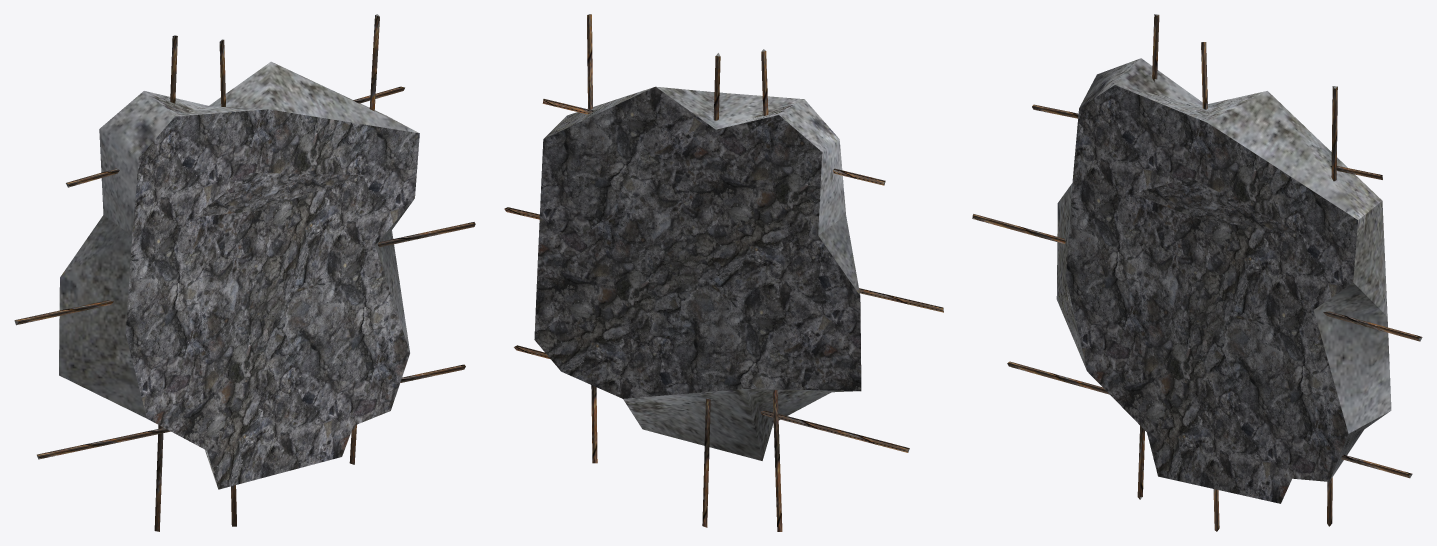
The model's file is Broken_1.fbx.
3 renders of one model, left to right at view 1: azimuth 30°, elevation 25°; view 2: azimuth 150°, elevation 25°; view 3: azimuth 330°, elevation 25°, orthographic. The views are drawn at different scales.
Visible parts, largest first — view 1: polySurface1329; view 2: polySurface1329; view 3: polySurface1329.
Boxes of the visible parts, left/top/right/bottom form: polySurface1329: left=14, top=14, right=475, bottom=531; polySurface1329: left=504, top=14, right=943, bottom=531; polySurface1329: left=972, top=14, right=1422, bottom=531.
Bounding box in the file's own units: 3.28 × 3.48 × 0.3589.
1 material, 1 textured.
